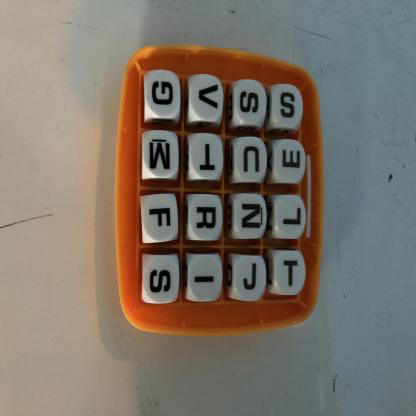c: (191, 76, 224, 119)
e: (274, 141, 306, 184)
f: (141, 195, 178, 243)
g: (145, 72, 180, 120)
i: (188, 255, 223, 302)
j: (234, 256, 267, 302)
l: (275, 196, 306, 240)
m: (142, 132, 179, 180)
n: (234, 195, 266, 239)
r: (189, 195, 223, 242)
s: (143, 255, 180, 304), (234, 82, 267, 127), (273, 85, 303, 129)
t: (189, 135, 224, 181), (274, 251, 306, 297)
u: (234, 139, 266, 183)
